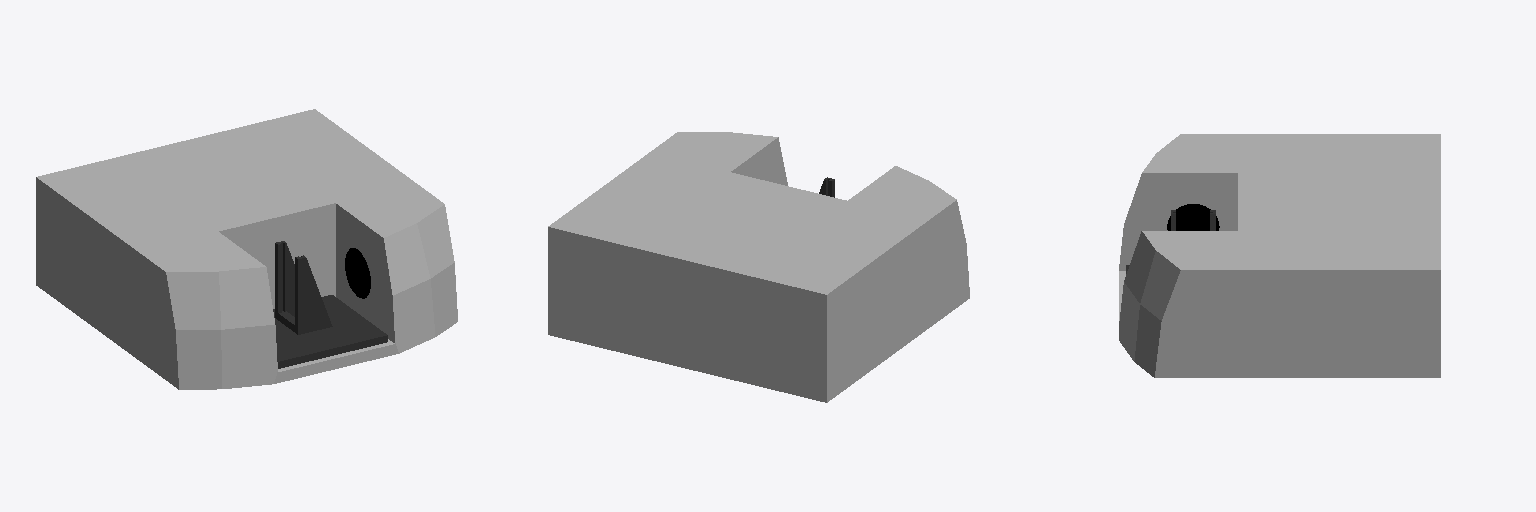
Rendered from infrared_analyzer_body.obj.
3 views of the same model, side by side, from view 1: azimuth 30°, elevation 25°; view 2: azimuth 150°, elevation 25°; view 3: azimuth 270°, elevation 25° (orthographic).
Parts seen in each view (by area): view 1: infrared_analyzer_body, infrared_analyzer_body_03, infrared_analyzer_body_01; view 2: infrared_analyzer_body; view 3: infrared_analyzer_body, infrared_analyzer_body_02.
Part boxes in pixels (x1,y1,x2,y2): infrared_analyzer_body: (36, 109, 457, 389); infrared_analyzer_body_03: (273, 241, 387, 368); infrared_analyzer_body_01: (345, 248, 370, 298); infrared_analyzer_body: (548, 132, 969, 402); infrared_analyzer_body: (1119, 134, 1440, 377); infrared_analyzer_body_02: (1167, 204, 1219, 230).
Size of the model in its own units: 319 by 118 by 319.